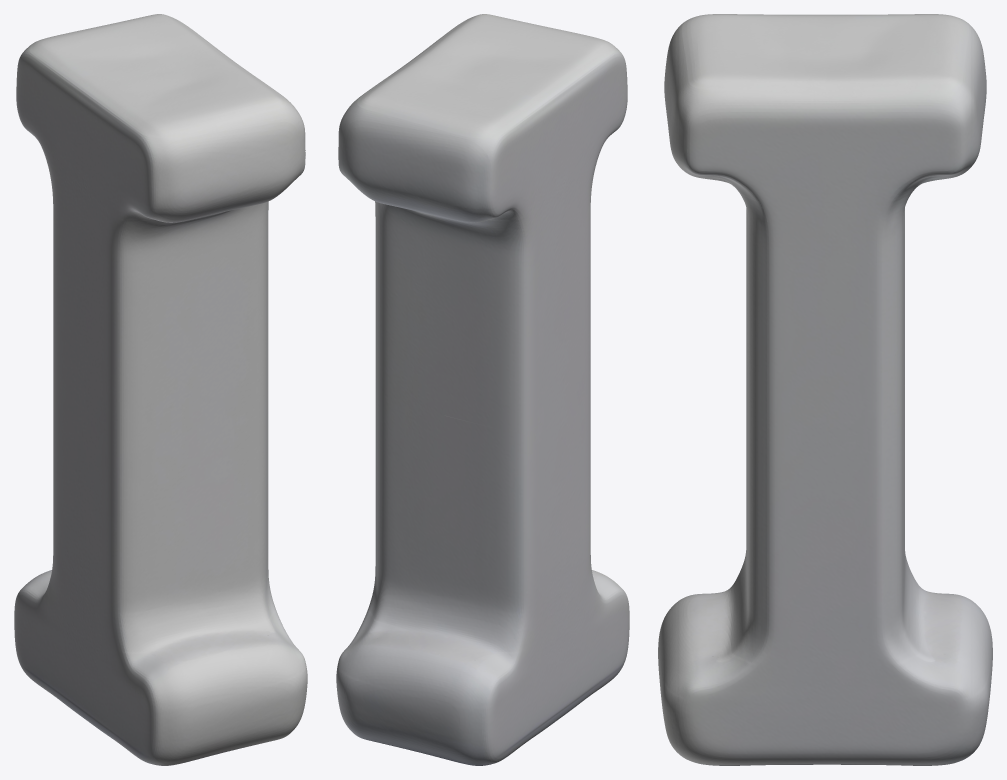
File: lettera i 3d modello.glb
3 renders of one model, left to right at view 1: azimuth 30°, elevation 25°; view 2: azimuth 150°, elevation 25°; view 3: azimuth 270°, elevation 25°, orthographic. The views are drawn at different scales.
Visible parts, largest first — view 1: tripo_node_98a9b276-8c5d-4e74-8934-08832bdaa48c; view 2: tripo_node_98a9b276-8c5d-4e74-8934-08832bdaa48c; view 3: tripo_node_98a9b276-8c5d-4e74-8934-08832bdaa48c.
Part boxes in pixels (x1,y1,x2,y2): tripo_node_98a9b276-8c5d-4e74-8934-08832bdaa48c: [14, 14, 307, 765]; tripo_node_98a9b276-8c5d-4e74-8934-08832bdaa48c: [336, 14, 629, 765]; tripo_node_98a9b276-8c5d-4e74-8934-08832bdaa48c: [658, 14, 992, 765].
Bounding box in the file's own units: 0.2632 × 1 × 0.4407.
Materials: 1 (1 with a texture image).
